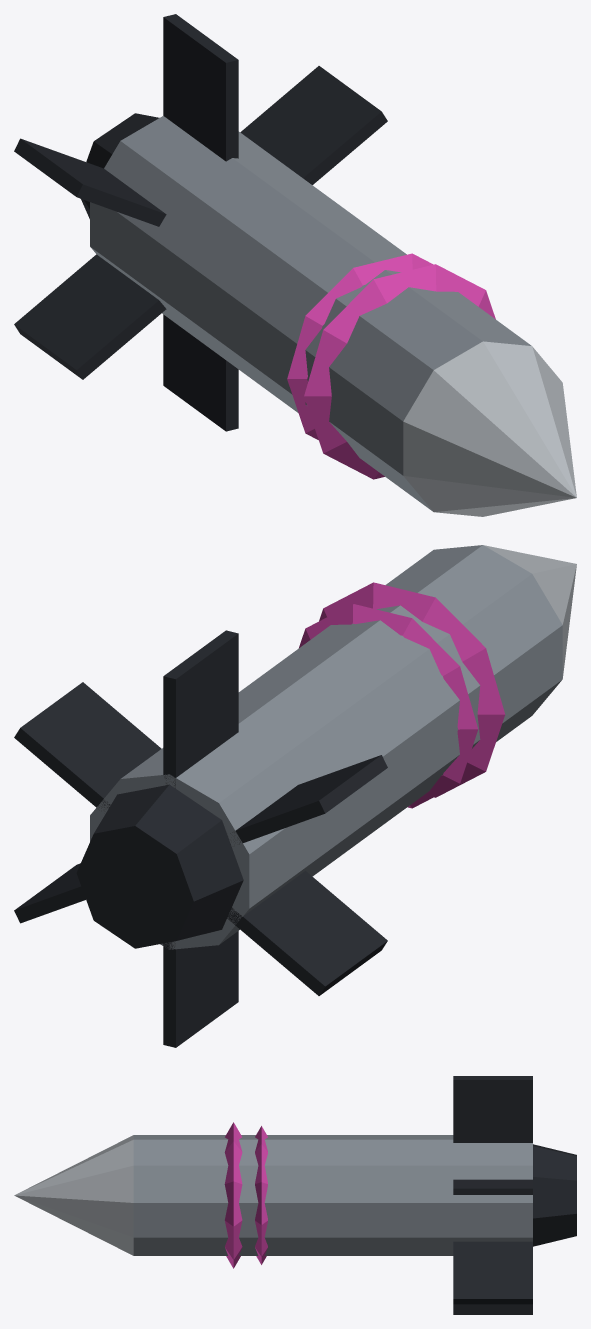
File: torpedo-plasma.glb
The picture shows the model from 3 angles, top to bottom: view 1: azimuth 30°, elevation 25°; view 2: azimuth 150°, elevation 25°; view 3: azimuth 270°, elevation 25°; orthographic projection. The views are drawn at different scales.
Visible parts, largest first — view 1: m; view 2: m; view 3: m.
Part boxes in pixels (x1=…): m: x1=14, y1=14, x2=576, y2=516; m: x1=14, y1=545, x2=576, y2=1047; m: x1=14, y1=1076, x2=576, y2=1314.
Size of the model in its own units: 0.1119 by 0.1266 by 0.275.
